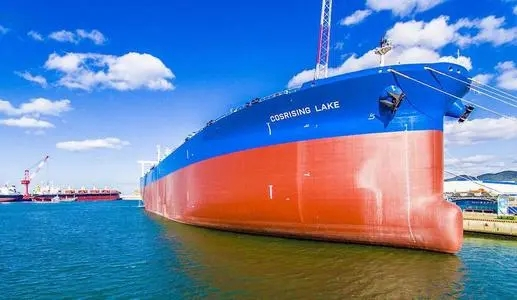Cargoship: (138, 39, 476, 261), (1, 164, 121, 202)
